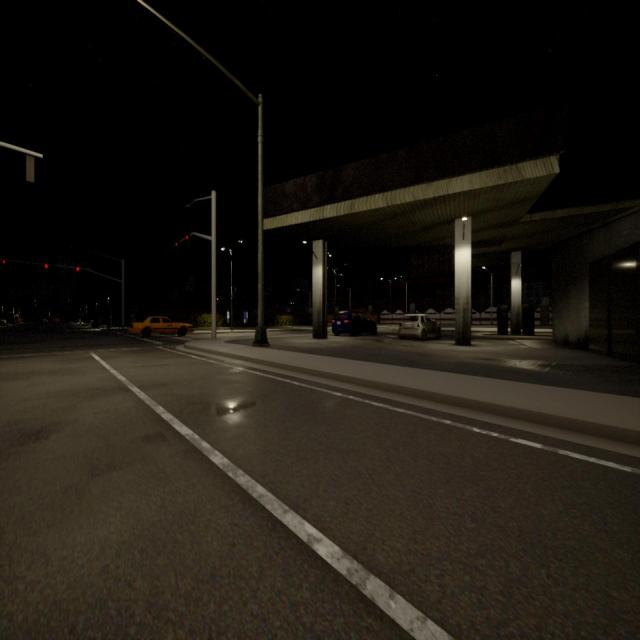Vehicle: (129, 316, 193, 337), (399, 314, 440, 341), (332, 311, 376, 336)
traffic_light: (26, 154, 34, 182), (76, 267, 80, 271), (2, 260, 6, 264), (45, 264, 48, 268), (175, 242, 178, 246), (186, 236, 188, 240)
